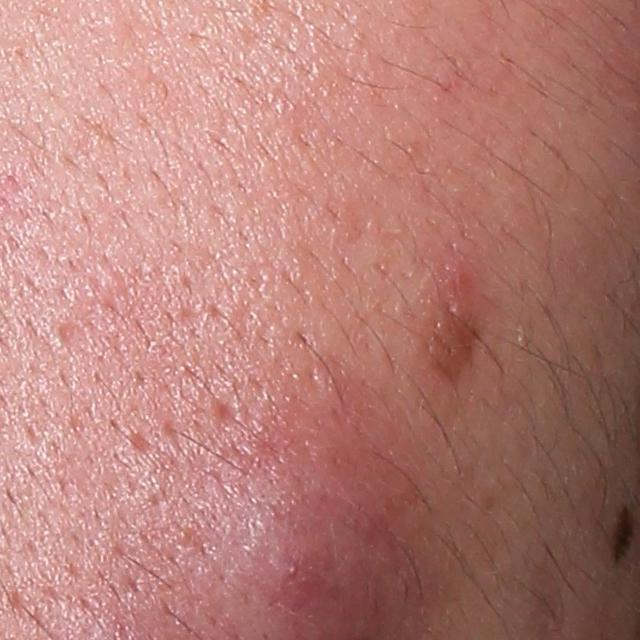atrophic_scar: (48, 317, 86, 350), (212, 394, 243, 428), (127, 427, 158, 455)
nevus: (424, 297, 480, 386), (610, 505, 636, 563)
